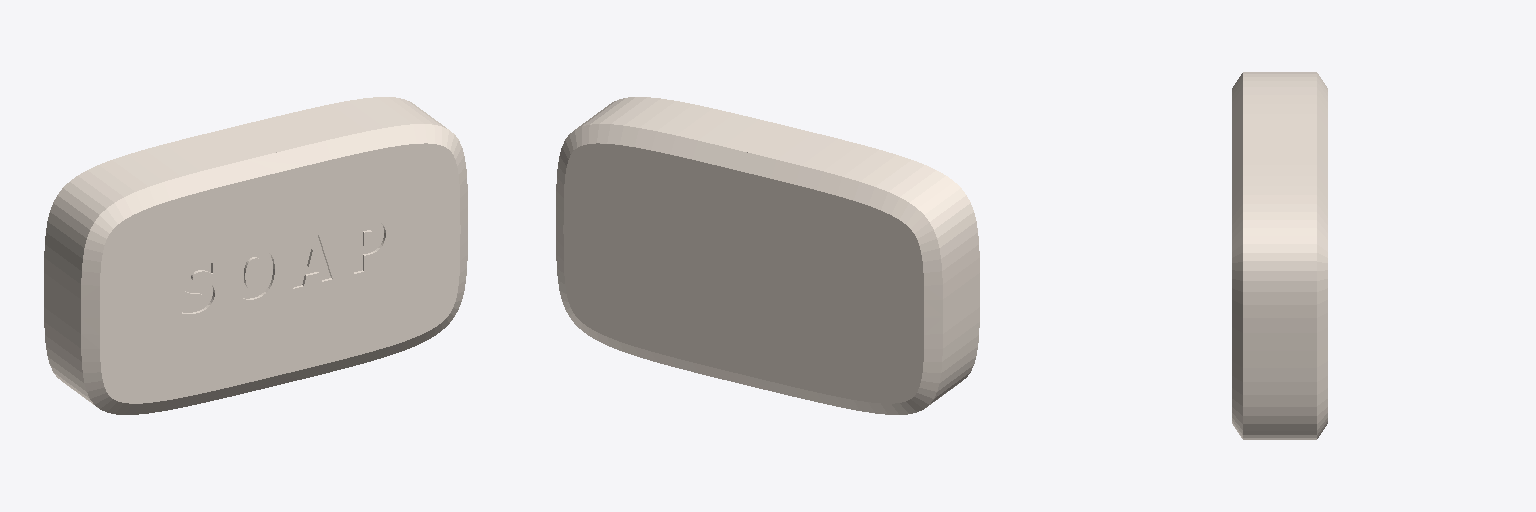
The model's file is Proj_ToolTesting06.obj.
3 renders of one model, left to right at view 1: azimuth 30°, elevation 25°; view 2: azimuth 150°, elevation 25°; view 3: azimuth 270°, elevation 25°, orthographic.
Visible parts, largest first — view 1: Proj_ToolTesting06-COM-Interior_Bathroom_SoapBar01-5007-0009_Lin; view 2: Proj_ToolTesting06-COM-Interior_Bathroom_SoapBar01-5007-0009_Lin; view 3: Proj_ToolTesting06-COM-Interior_Bathroom_SoapBar01-5007-0009_Lin.
Boxes of the visible parts, x1=… form: Proj_ToolTesting06-COM-Interior_Bathroom_SoapBar01-5007-0009_Lin: x1=44, y1=97, x2=467, y2=414; Proj_ToolTesting06-COM-Interior_Bathroom_SoapBar01-5007-0009_Lin: x1=556, y1=97, x2=979, y2=414; Proj_ToolTesting06-COM-Interior_Bathroom_SoapBar01-5007-0009_Lin: x1=1232, y1=72, x2=1327, y2=439.
Size of the model in its own units: 0.1 by 0.0576 by 0.0215.